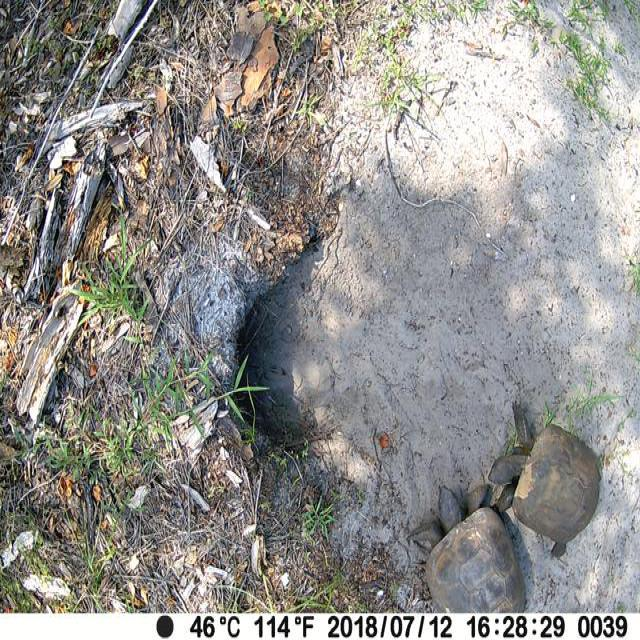tortoise: (488, 399, 599, 557), (407, 483, 526, 613)
